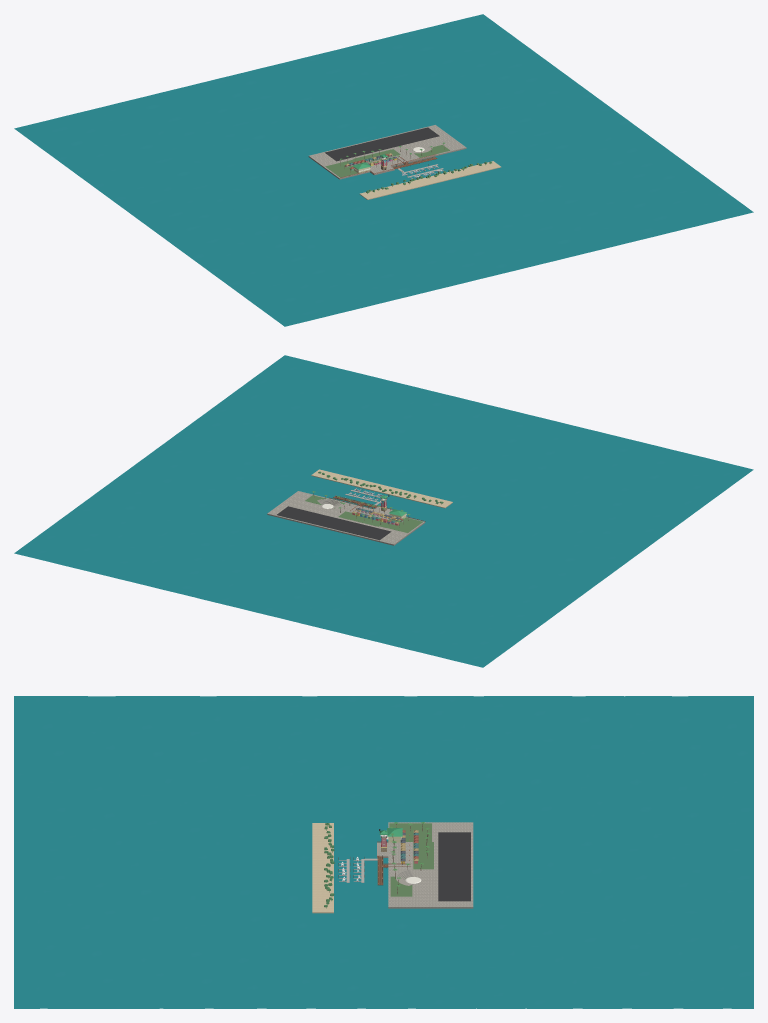
File: guancha_complejo.glb
3 renders of one model, top to bottom at view 1: azimuth 30°, elevation 25°; view 2: azimuth 150°, elevation 25°; view 3: azimuth 270°, elevation 25°, orthographic. The views are drawn at different scales.
Visible parts, largest first — view 1: Agua, Explanada, Aparcamiento, Playa, Cesped; view 2: Agua, Explanada, Aparcamiento, Playa, Cesped; view 3: Agua, Explanada, Aparcamiento, Playa, Cesped.
Boxes of the visible parts, x1,y1,x2,y2 form: Agua: [14, 14, 753, 326]; Explanada: [308, 125, 466, 179]; Aparcamiento: [325, 127, 439, 161]; Playa: [359, 161, 501, 199]; Cesped: [325, 145, 449, 177]; Agua: [14, 355, 753, 667]; Explanada: [267, 491, 425, 545]; Aparcamiento: [277, 506, 391, 540]; Playa: [311, 469, 452, 508]; Cesped: [305, 495, 422, 532]; Agua: [14, 696, 753, 1008]; Explanada: [377, 822, 473, 908]; Aparcamiento: [438, 832, 470, 901]; Playa: [312, 823, 333, 913]; Cesped: [389, 823, 433, 896].
Size of the model in its own units: 680 by 25.49 by 680.
42 materials, 5 textured.
